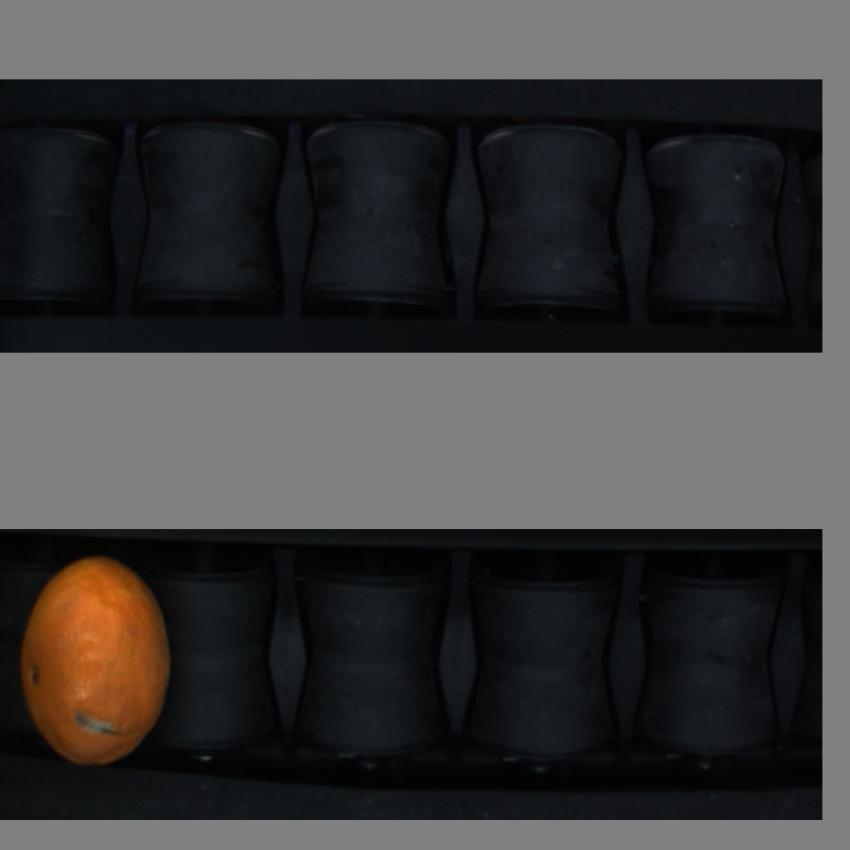Mal estado: (15, 549, 173, 775)
